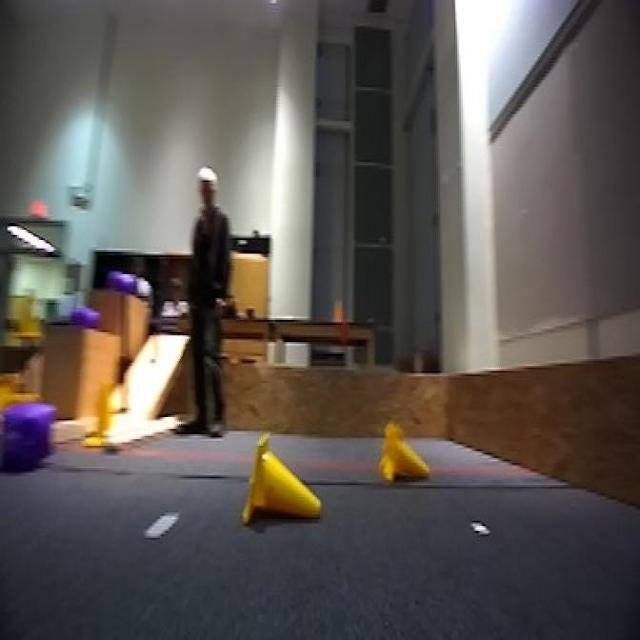frc_cone: (245, 434, 320, 517), (374, 419, 432, 485), (8, 272, 44, 349), (87, 376, 115, 446)
frc_cube: (4, 402, 53, 476), (58, 296, 103, 330), (104, 268, 138, 302)
